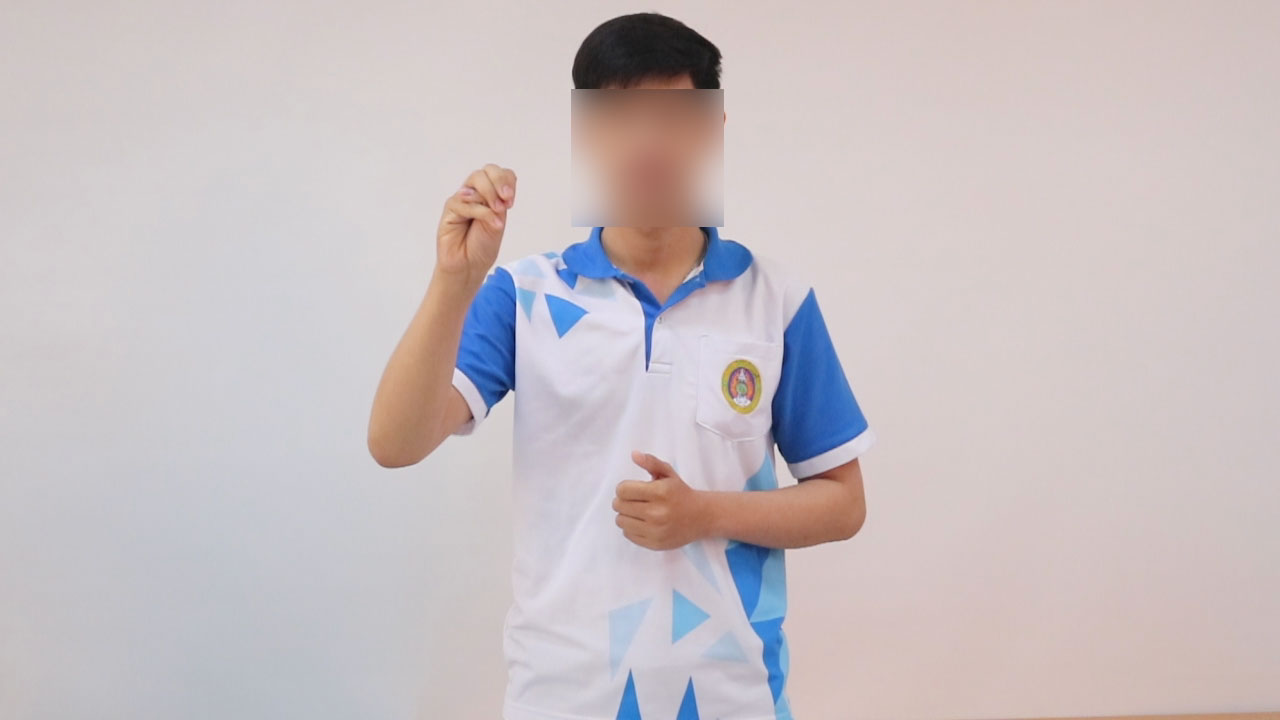mor: (432, 140, 524, 298)
